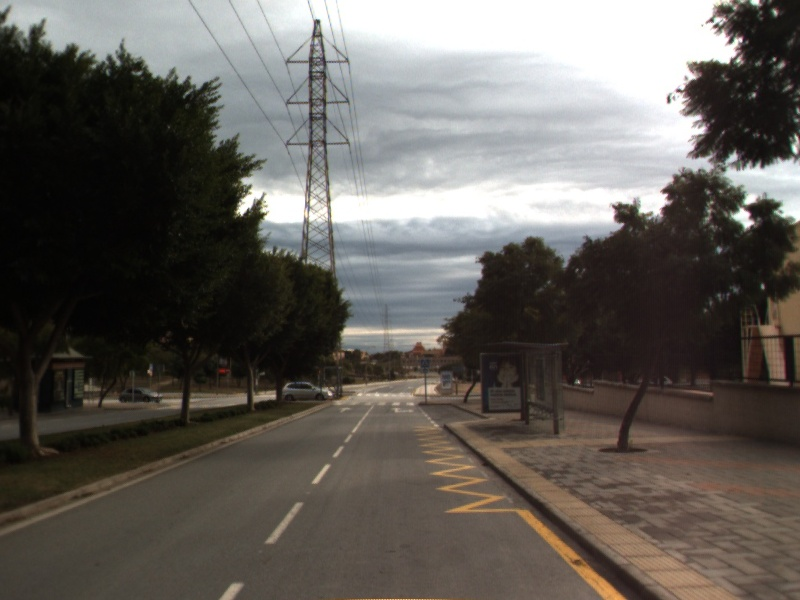STRAIGHT: (336, 405, 354, 415)
STRAIGHT_RIGHT: (389, 405, 416, 415)
